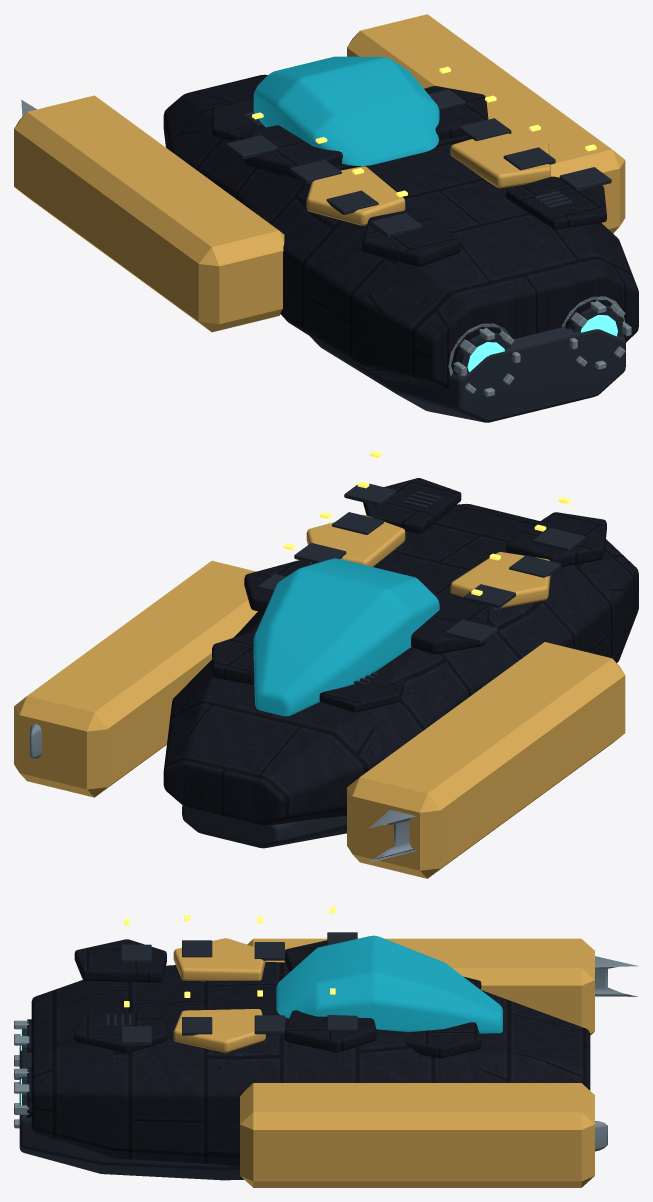
Rendered from prospector.glb.
The picture shows the model from 3 angles, top to bottom: view 1: azimuth 30°, elevation 25°; view 2: azimuth 150°, elevation 25°; view 3: azimuth 270°, elevation 25°; orthographic projection. The views are drawn at different scales.
Parts seen in each view (by area): view 1: Gôndola do motor.039 · exportação, Colar da turbina.118 · exportação, Bocal do motor.039 · exportação, Cabine panorâmica.019 · exportação, Aleta do bocal.319 · exportação, Núcleo propulsor.039 · exportação; view 2: Colar da turbina.118 · exportação, Gôndola do motor.039 · exportação, Cabine panorâmica.019 · exportação, Bocal do motor.039 · exportação, Aleta do bocal.319 · exportação; view 3: Gôndola do motor.039 · exportação, Colar da turbina.118 · exportação, Cabine panorâmica.019 · exportação, Bocal do motor.039 · exportação, Aleta do bocal.319 · exportação.
Boxes of the visible parts, x1=… form: Gôndola do motor.039 · exportação: x1=163, y1=74, x2=638, y2=388; Colar da turbina.118 · exportação: x1=14, y1=14, x2=625, y2=332; Bocal do motor.039 · exportação: x1=226, y1=89, x2=625, y2=422; Cabine panorâmica.019 · exportação: x1=253, y1=56, x2=439, y2=165; Aleta do bocal.319 · exportação: x1=21, y1=100, x2=631, y2=396; Núcleo propulsor.039 · exportação: x1=467, y1=315, x2=617, y2=371; Colar da turbina.118 · exportação: x1=14, y1=514, x2=625, y2=878; Gôndola do motor.039 · exportação: x1=163, y1=478, x2=638, y2=825; Cabine panorâmica.019 · exportação: x1=253, y1=558, x2=439, y2=716; Bocal do motor.039 · exportação: x1=182, y1=483, x2=584, y2=848; Aleta do bocal.319 · exportação: x1=29, y1=724, x2=416, y2=862; Gôndola do motor.039 · exportação: x1=27, y1=939, x2=590, y2=1166; Colar da turbina.118 · exportação: x1=173, y1=938, x2=594, y2=1187; Cabine panorâmica.019 · exportação: x1=276, y1=935, x2=502, y2=1033; Bocal do motor.039 · exportação: x1=19, y1=932, x2=357, y2=1180; Aleta do bocal.319 · exportação: x1=14, y1=956, x2=638, y2=1151.
Size of the model in its own units: 36.08 by 17.98 by 51.57.
Materials: 7 (1 with a texture image).
